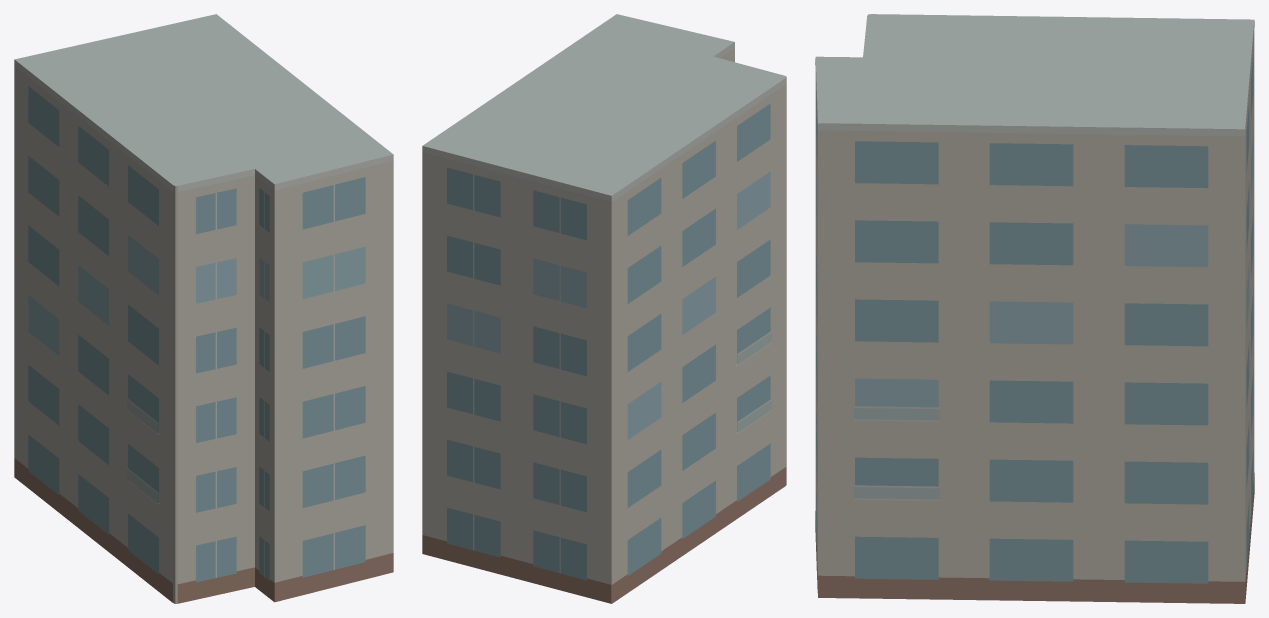
The model's file is survey-upis-32858891.glb.
3 renders of one model, left to right at view 1: azimuth 30°, elevation 25°; view 2: azimuth 150°, elevation 25°; view 3: azimuth 270°, elevation 25°, orthographic. The views are drawn at different scales.
Parts seen in each view (by area): view 1: survey-upis-32858891.tmp; view 2: survey-upis-32858891.tmp; view 3: survey-upis-32858891.tmp.
Part boxes in pixels (x1,y1,x2,y2): survey-upis-32858891.tmp: [14, 14, 393, 603]; survey-upis-32858891.tmp: [422, 14, 786, 603]; survey-upis-32858891.tmp: [815, 14, 1254, 603].
Bounding box in the file's own units: 8.39 × 16.1 × 13.5.
